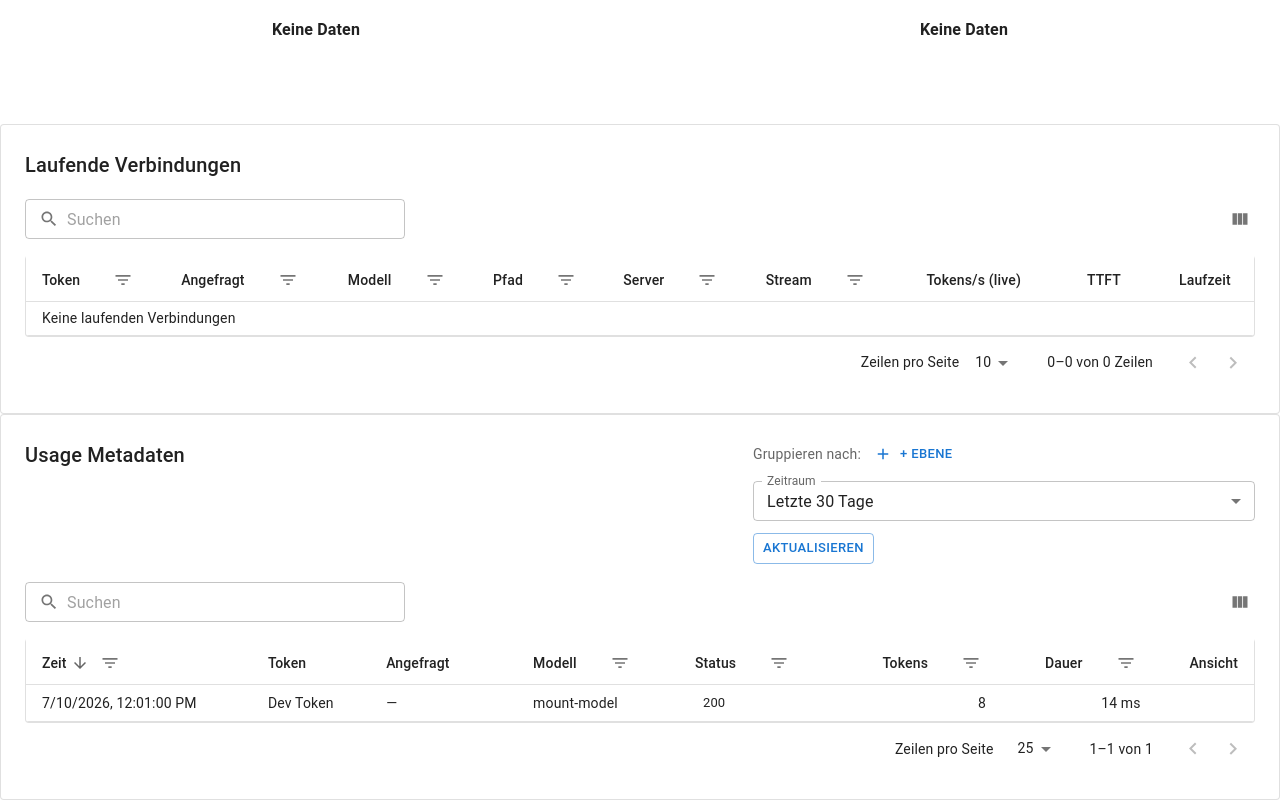
Test case: commits an in-flight load's stats after a not-newest SSE stats refetch rejects
(page scrolled)
Check: the cell "mount-model" is shown, box [517,684,679,722]
Click the button "Dauer": (1064, 663) [1045,655,1083,671]
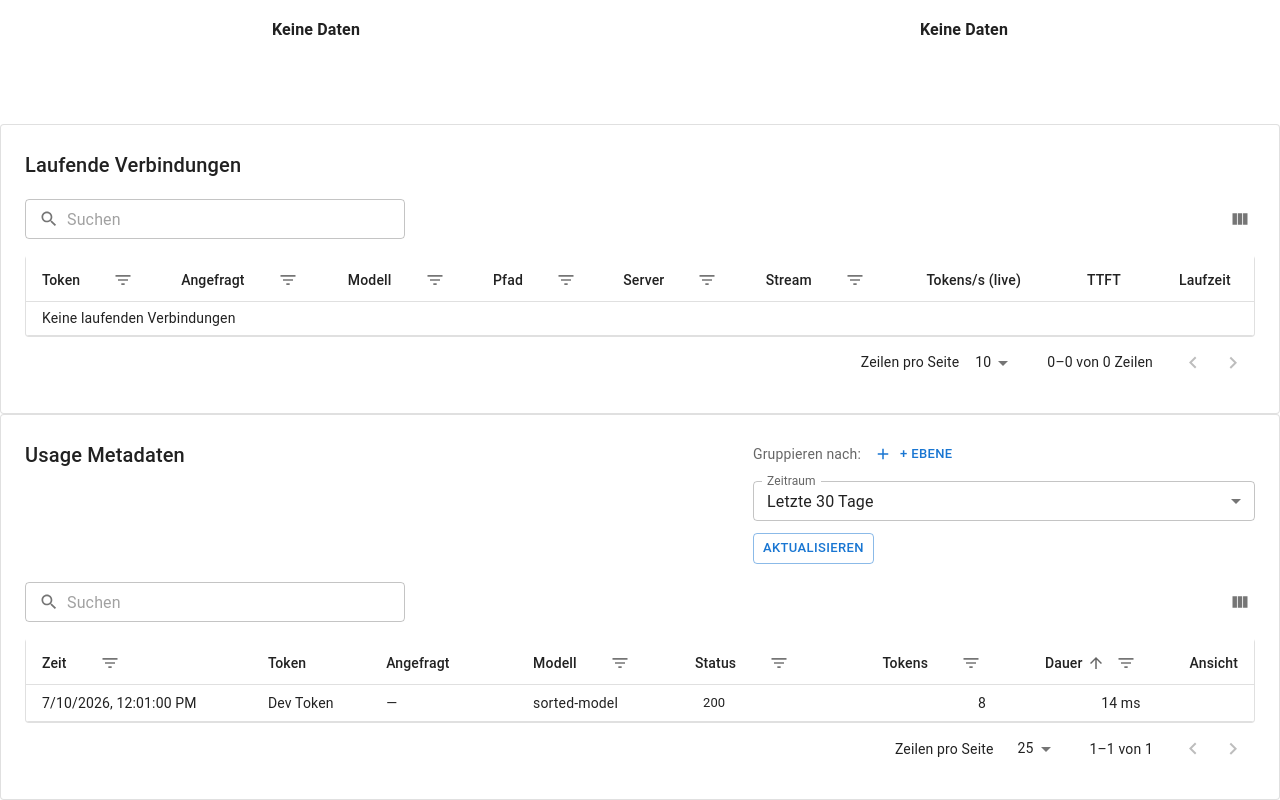
Check: the cell "sorted-model" is shown, box [517,684,679,722]
In the field named "Suche (ID, Modell, Server, Token)": (236, 602) [67,582,405,622], type "req_filtered"
(page scrolled)
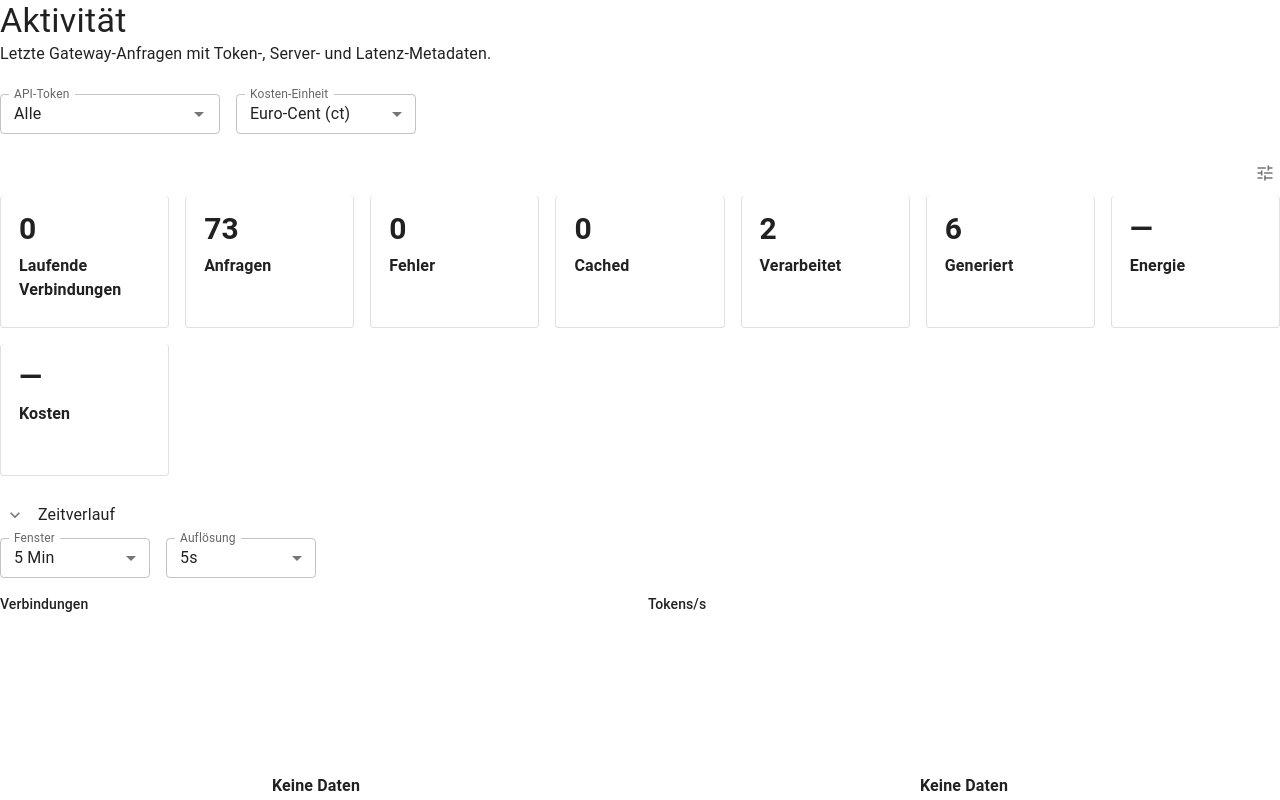
Check: the cell "sorted-model" is gone
Check: the text "73" is shown, box [204,211,239,246]
